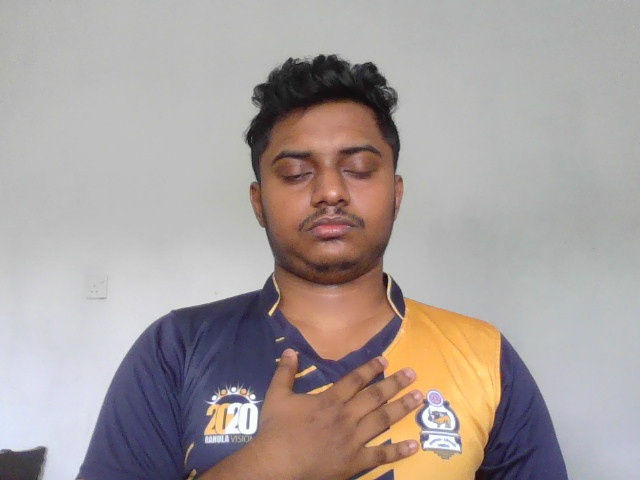Please: (262, 346, 427, 480)
